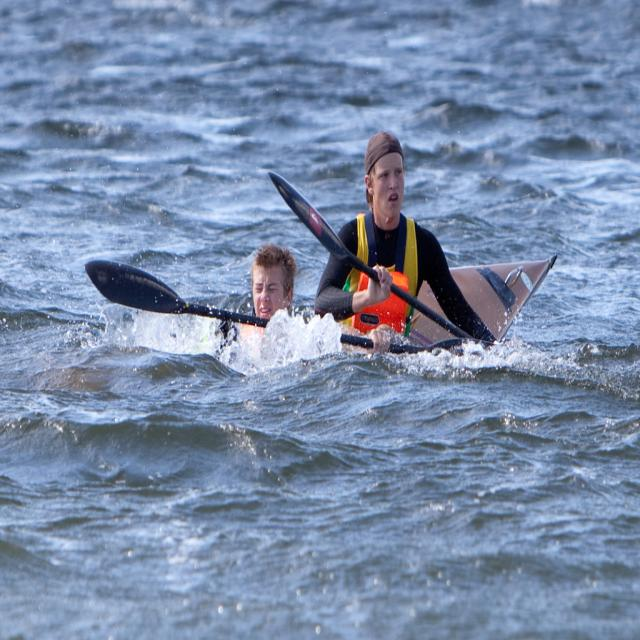Boat: (294, 235, 547, 356)
